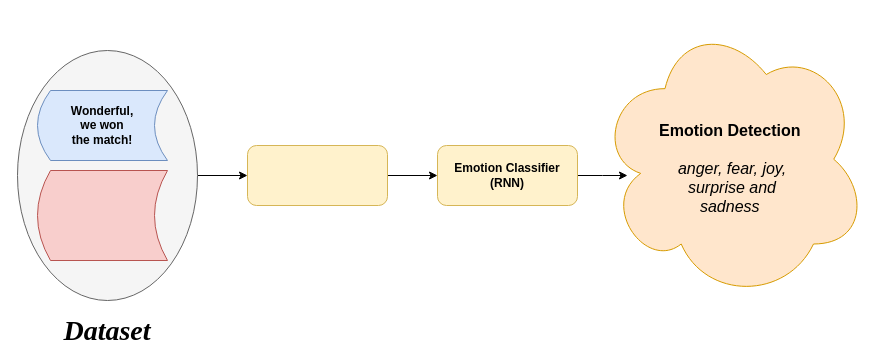
Image size: 885x364. Some labels were removed from this diagram. Each missing label, with the centre of its shape:
Preprocess Dataset: the point at 317,175
That game was totally useless, hate it: the point at 102,215
